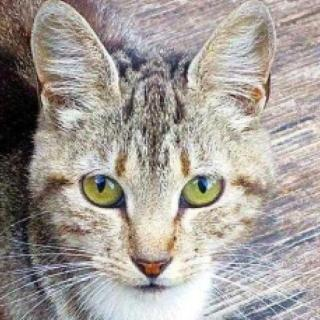cat: (25, 3, 279, 299)
nose: (125, 212, 182, 280)
